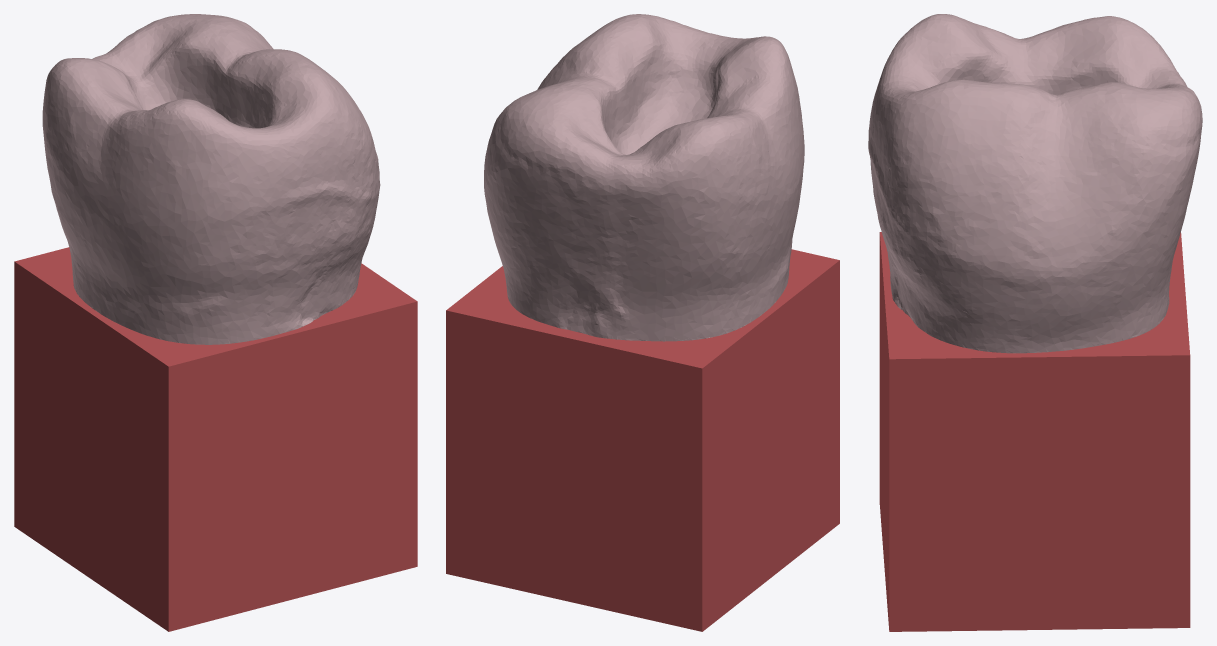
The model's file is PC clase I.glb.
3 renders of one model, left to right at view 1: azimuth 30°, elevation 25°; view 2: azimuth 150°, elevation 25°; view 3: azimuth 270°, elevation 25°, orthographic. The views are drawn at different scales.
Parts seen in each view (by area): view 1: CLASE I - corte - combinado; view 2: CLASE I - corte - combinado; view 3: CLASE I - corte - combinado.
Part boxes in pixels (bbox=[...]): CLASE I - corte - combinado: bbox=[14, 14, 417, 631]; CLASE I - corte - combinado: bbox=[446, 14, 839, 631]; CLASE I - corte - combinado: bbox=[868, 14, 1202, 631].
Size of the model in its own units: 10.71 by 18.71 by 11.1.
